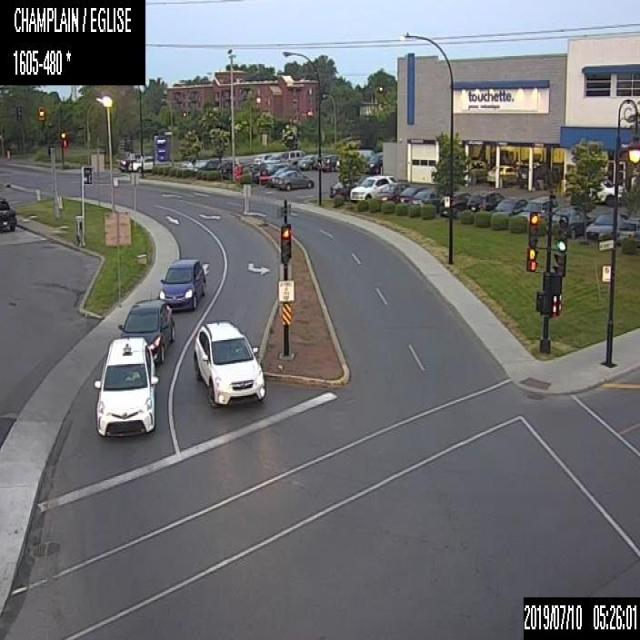vehicle: (93, 336, 158, 438), (193, 318, 264, 406), (116, 297, 174, 362), (158, 256, 206, 310), (550, 205, 596, 237), (565, 178, 623, 202), (349, 174, 396, 200), (585, 212, 625, 239), (516, 195, 558, 220), (466, 190, 504, 213), (272, 169, 313, 190), (516, 161, 550, 186), (438, 191, 471, 215), (372, 181, 409, 202), (329, 176, 361, 200), (411, 188, 440, 212), (271, 164, 306, 183), (486, 164, 519, 184), (253, 163, 283, 184), (494, 196, 527, 215), (0, 195, 16, 229), (616, 217, 639, 240), (398, 185, 429, 202), (468, 158, 488, 182), (118, 151, 140, 171), (132, 154, 158, 170), (217, 160, 237, 178), (365, 152, 382, 173), (234, 163, 254, 180), (282, 149, 306, 163), (321, 152, 338, 169), (198, 158, 224, 169), (298, 153, 317, 166), (252, 152, 270, 163), (264, 154, 282, 164), (356, 148, 374, 158), (334, 157, 340, 169)
